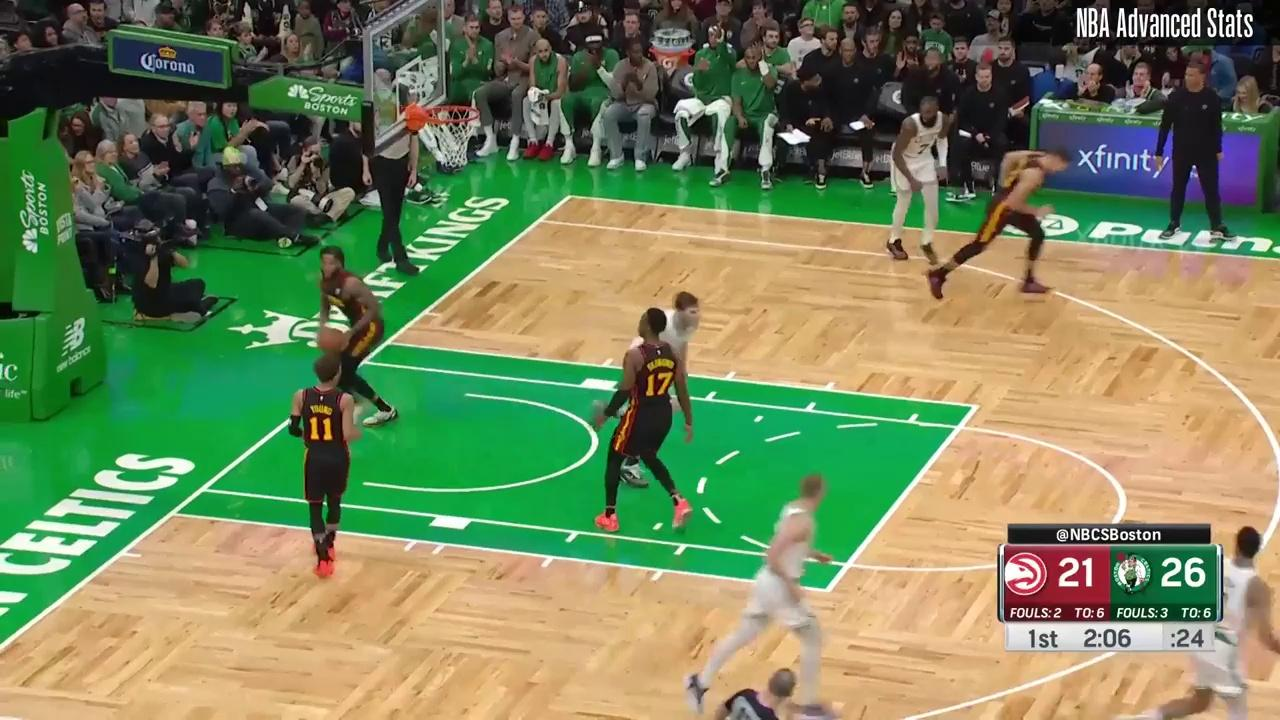3_dx: (537, 216, 544, 224)
b_dx: (566, 193, 574, 200)
free_adx: (970, 402, 979, 412)
free_asx: (824, 585, 833, 594)
free_bdx: (383, 339, 391, 346)
free_bsx: (167, 509, 177, 517)
referee: (363, 83, 420, 276)
team: (684, 472, 845, 716), (1121, 526, 1280, 720), (620, 291, 701, 487), (887, 96, 949, 267)
team1: (591, 307, 690, 532), (925, 144, 1068, 299), (288, 352, 360, 577), (316, 244, 398, 427)
timer: (1078, 624, 1137, 651)
